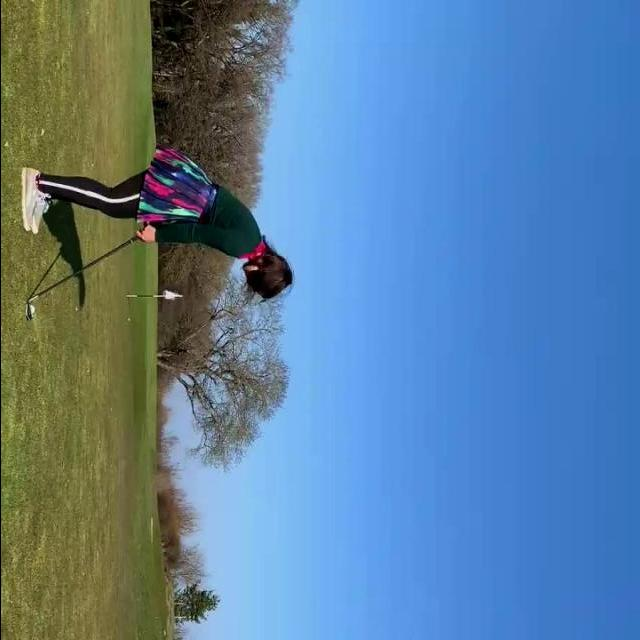golf ball: (30, 305, 34, 314)
golf club-handle: (22, 222, 163, 323)
golf club-head: (24, 303, 31, 321)
